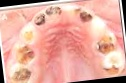Caries: (31, 3, 64, 27), (92, 30, 118, 58), (10, 66, 35, 83), (15, 44, 35, 64), (78, 9, 96, 24)
